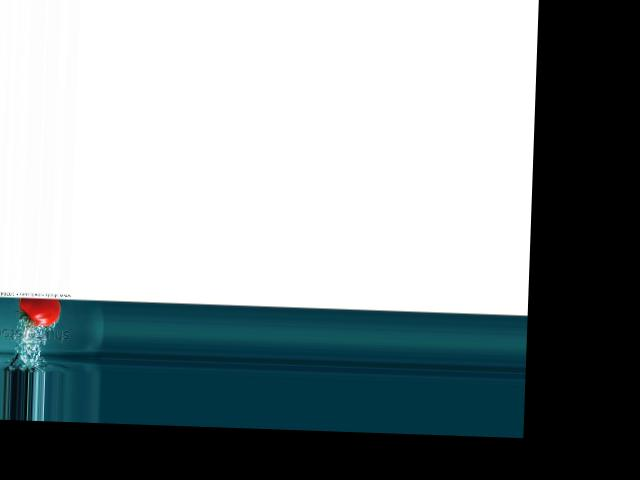tomato: (17, 297, 60, 326)
